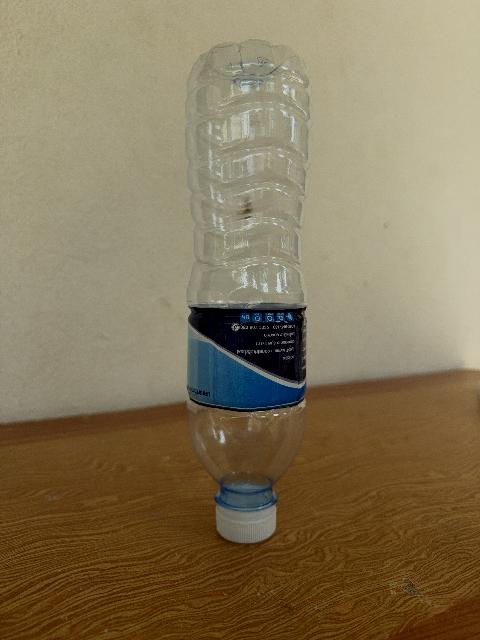bottle: (185, 40, 310, 542)
